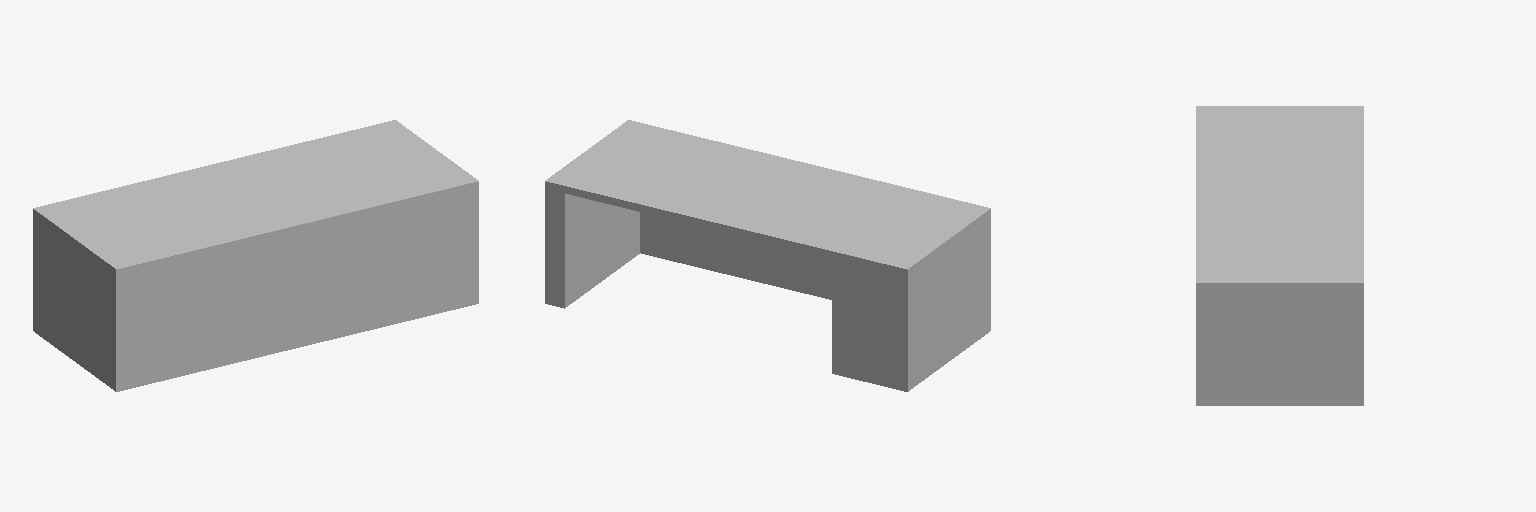
File: desk.obj
3 renders of one model, left to right at view 1: azimuth 30°, elevation 25°; view 2: azimuth 150°, elevation 25°; view 3: azimuth 270°, elevation 25°, orthographic.
Parts seen in each view (by area): view 1: Desk_Ch; view 2: Desk_Ch; view 3: Desk_Ch.
Boxes of the visible parts, x1=… form: Desk_Ch: x1=33, y1=120, x2=478, y2=391; Desk_Ch: x1=545, y1=120, x2=990, y2=391; Desk_Ch: x1=1196, y1=106, x2=1363, y2=405.
Size of the model in its own units: 50 by 16.15 by 20.